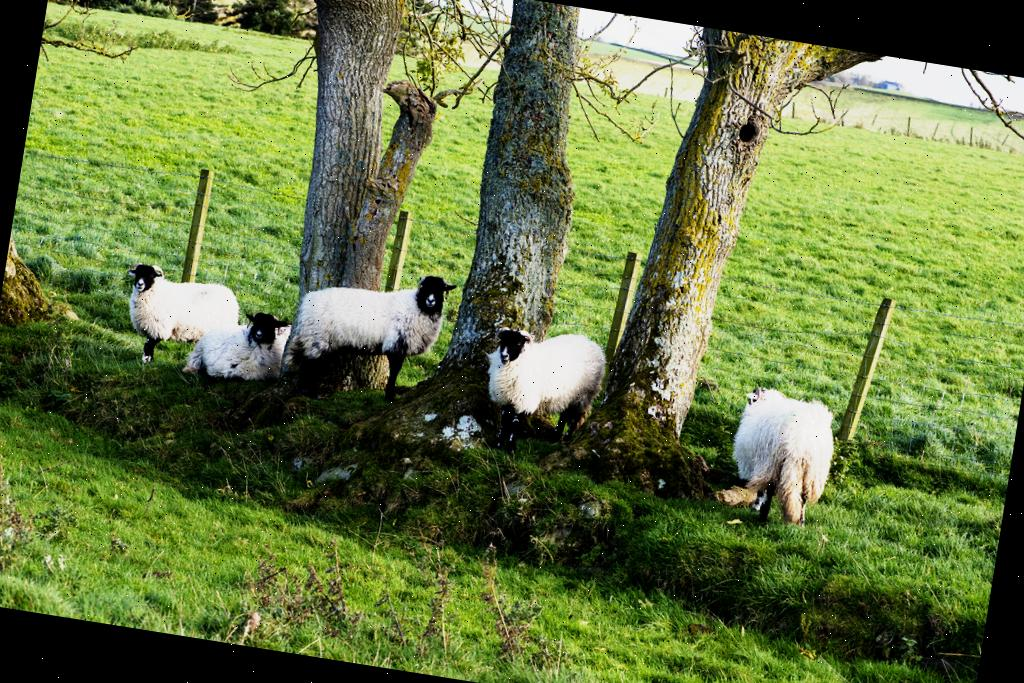Sheep: (286, 258, 452, 400), (717, 380, 841, 526), (472, 320, 612, 448), (115, 261, 242, 371), (184, 300, 294, 392)
